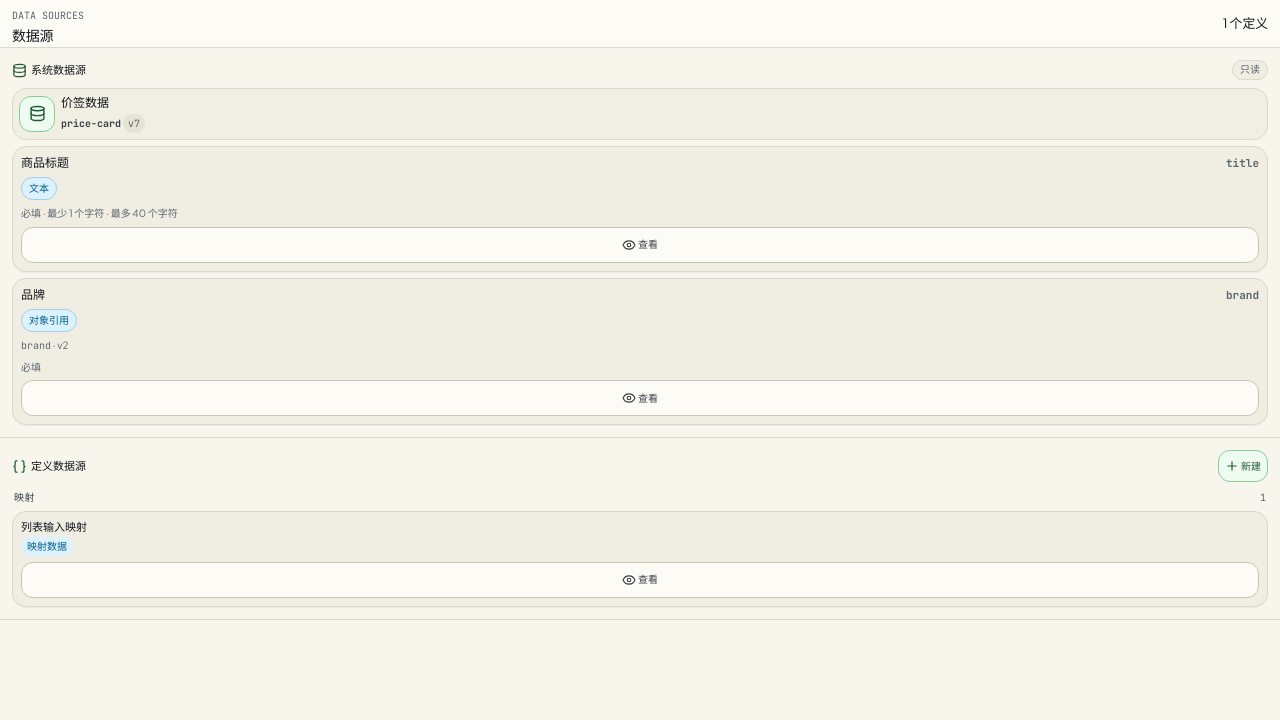
Template Editor data sources panel › keeps a legal MappingDefinition outside the exact adapter explicitly read-only
This screenshot has width=1280, height=720.
Click the button with aria-label "查看列表输入映射" at x=640, y=580, box x1=21 y1=562 x2=1259 y2=598
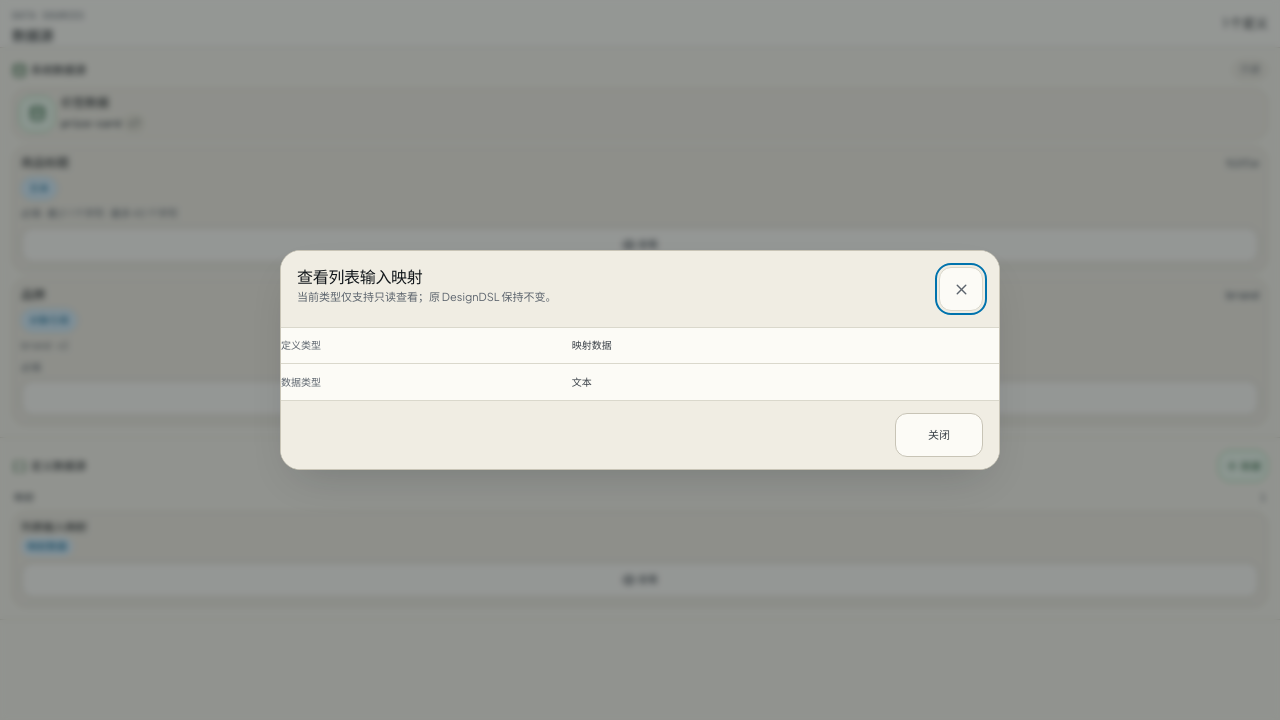
Check: the text "当前类型仅支持只读查看；原 DesignDSL 保持不变。" is shown, box x1=297 y1=289 x2=556 y2=305
